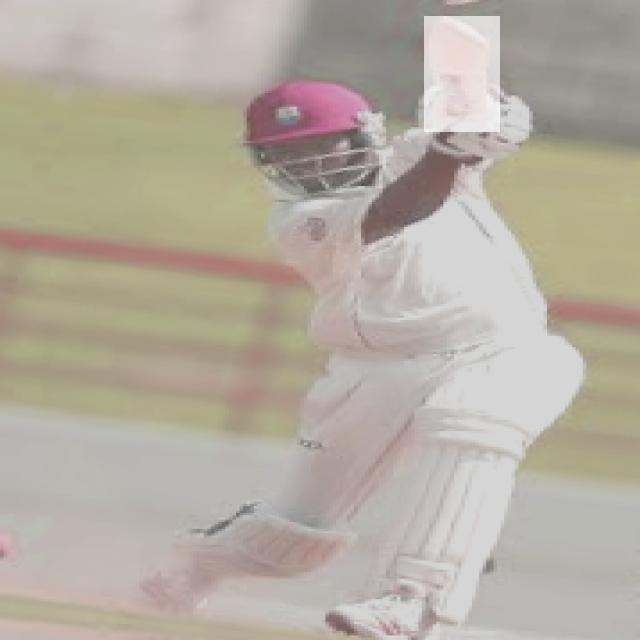bat: (424, 18, 500, 132)
toe: (444, 18, 492, 39)
